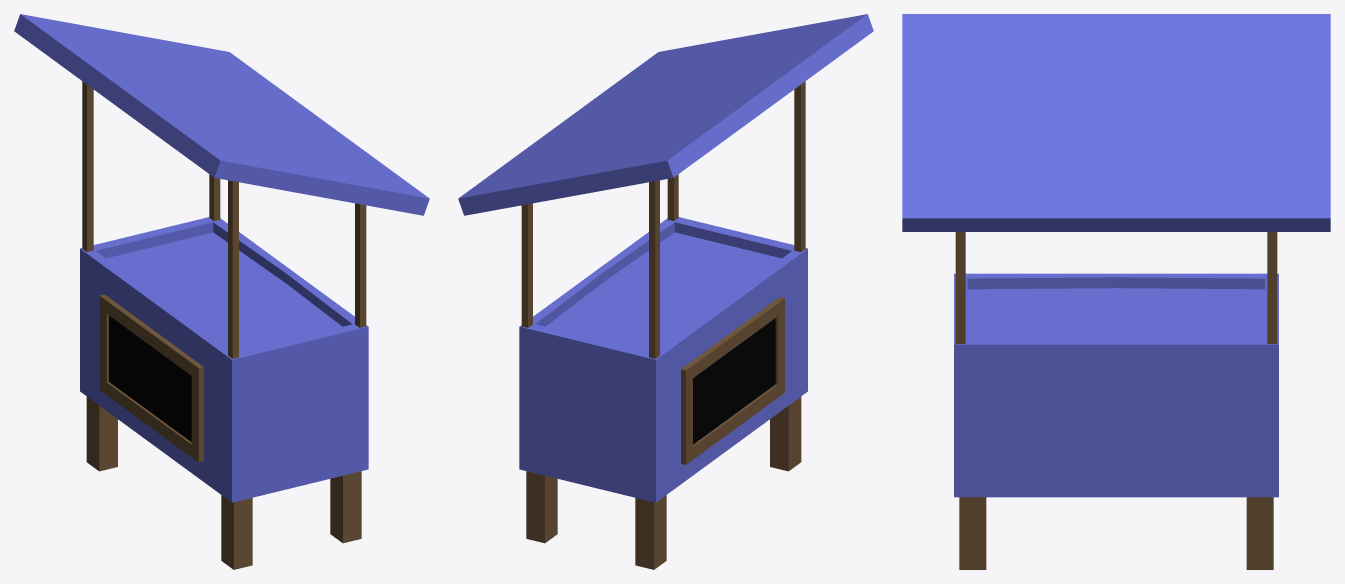
Rendered from MarketStand.fbx.
3 renders of one model, left to right at view 1: azimuth 30°, elevation 25°; view 2: azimuth 150°, elevation 25°; view 3: azimuth 270°, elevation 25°, orthographic. The views are drawn at different scales.
Parts seen in each view (by area): view 1: MarketStands.001; view 2: MarketStands.001; view 3: MarketStands.001.
Part boxes in pixels (x1=…): MarketStands.001: x1=14, y1=14, x2=429, y2=569; MarketStands.001: x1=458, y1=14, x2=873, y2=569; MarketStands.001: x1=902, y1=14, x2=1330, y2=569.
Bounding box in the file's own units: 121 × 235 × 194.
